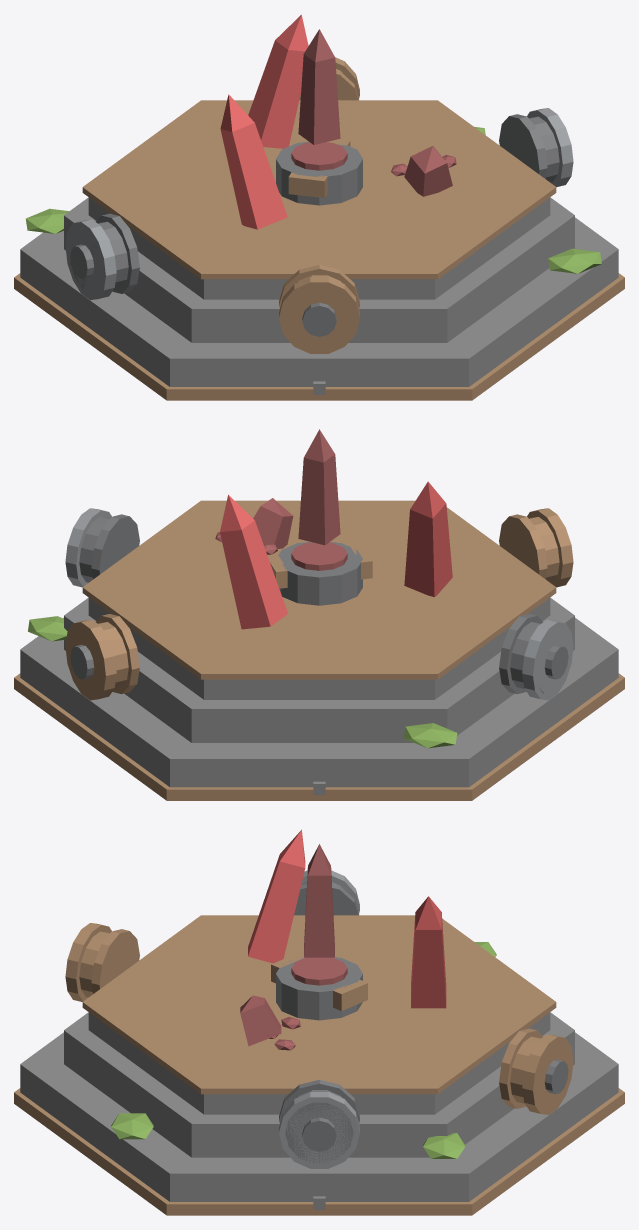
File: energy_node_s2_50.glb
3 views of the same model, one above another, from view 1: azimuth 30°, elevation 25°; view 2: azimuth 150°, elevation 25°; view 3: azimuth 270°, elevation 25° (orthographic).
Parts seen in each view (by area): view 1: EN_Base; view 2: EN_Base; view 3: EN_Base.
Part boxes in pixels (<box>): EN_Base: <box>14,14,624,400</box>; EN_Base: <box>14,429,624,800</box>; EN_Base: <box>14,829,624,1215</box>.
Size of the model in its own units: 1.78 by 0.92 by 1.96.
